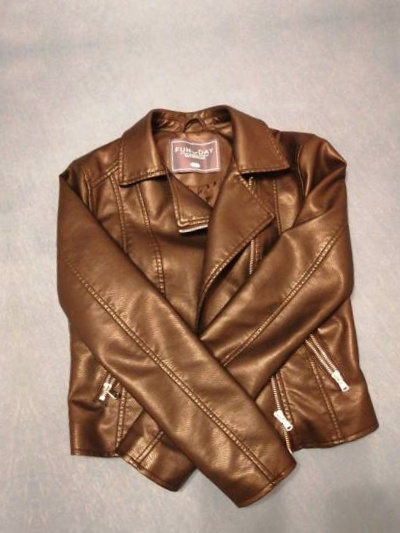Blazer: (21, 92, 398, 516), (0, 133, 11, 533)
